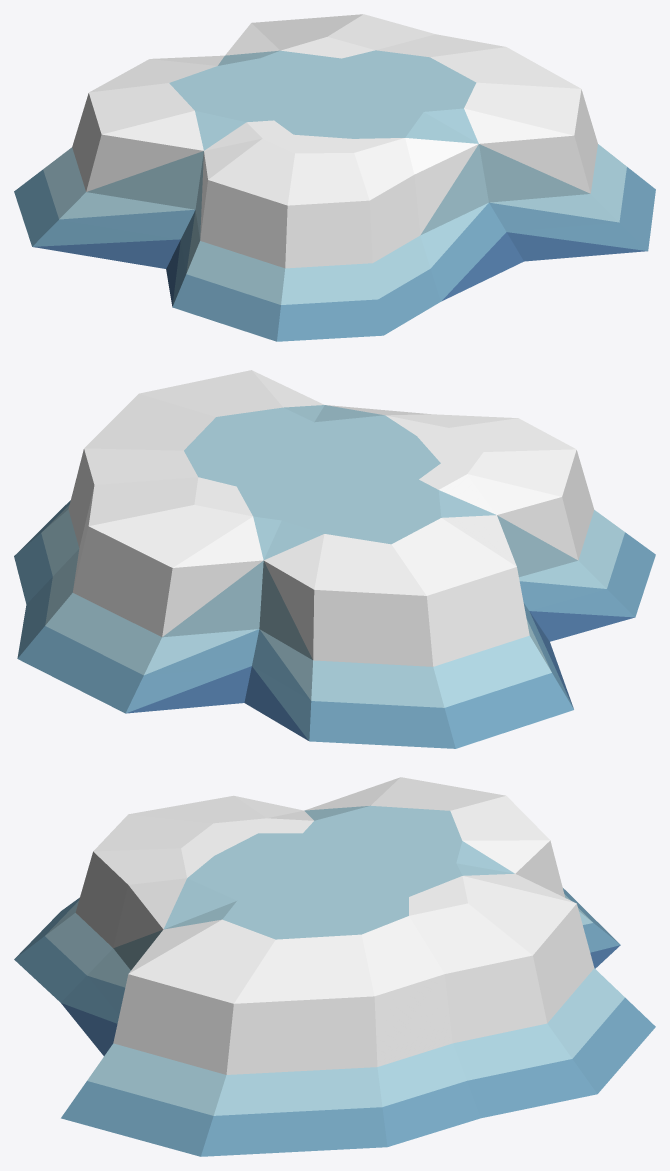
Rendered from terrainFlat2.fbx.
3 renders of one model, top to bottom at view 1: azimuth 30°, elevation 25°; view 2: azimuth 150°, elevation 25°; view 3: azimuth 270°, elevation 25°, orthographic. The views are drawn at different scales.
Visible parts, largest first — view 1: bottom, top; view 2: bottom, top; view 3: bottom, top.
Part boxes in pixels (x1,y1,x2,y2): bottom: (14, 89, 655, 341); top: (89, 14, 581, 205); bottom: (14, 449, 655, 748); top: (84, 370, 576, 595); bottom: (14, 840, 655, 1156); top: (93, 777, 576, 1003).
Size of the model in its own units: 494 by 106 by 456.
Materials: 2 (2 with a texture image).
